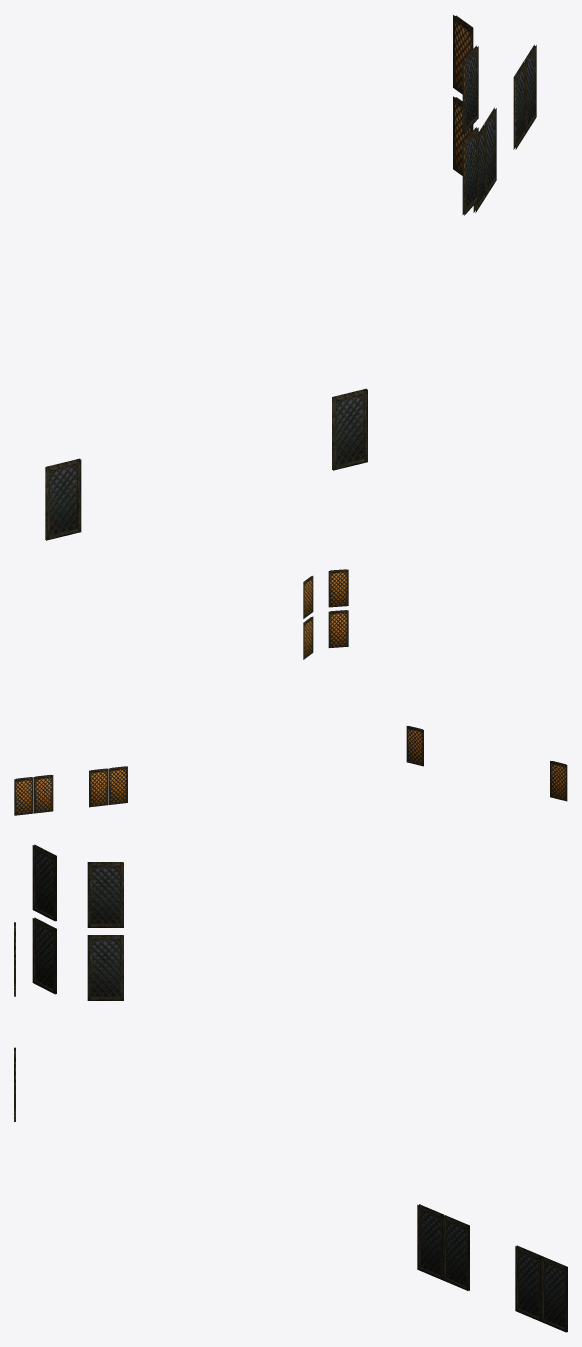
Rendered from LAKETOWN_EXTERIOR_PS_LT_WINDOW_LONG_LOD1_63.fbx.
3 views of the same model, one above another, from view 1: azimuth 30°, elevation 25°; view 2: azimuth 150°, elevation 25°; view 3: azimuth 270°, elevation 25° (orthographic). The views are drawn at different scales.
Visible parts, largest first — view 1: LAKETOWN_EXTERIOR_PS_LT_WINDOW_LONG_LOD1_63; view 2: LAKETOWN_EXTERIOR_PS_LT_WINDOW_LONG_LOD1_63; view 3: LAKETOWN_EXTERIOR_PS_LT_WINDOW_LONG_LOD1_63.
Boxes of the visible parts, x1,y1,x2,y2 form: LAKETOWN_EXTERIOR_PS_LT_WINDOW_LONG_LOD1_63: (45,15,536,540); LAKETOWN_EXTERIOR_PS_LT_WINDOW_LONG_LOD1_63: (14,569,567,815); LAKETOWN_EXTERIOR_PS_LT_WINDOW_LONG_LOD1_63: (14,844,567,1332).
Bounding box in the file's own units: 169971 × 74613 × 113991.
2 materials, 2 textured.
